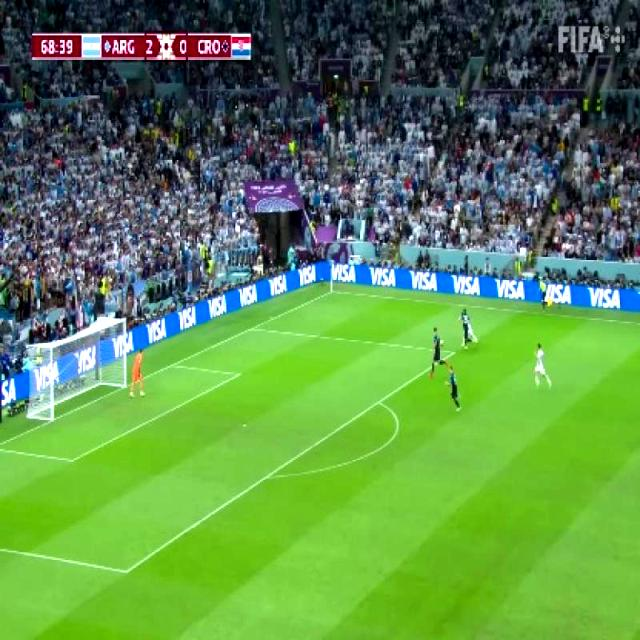bigarea_bottom_inner: (117, 560, 135, 582)
bigarea_top_inner: (446, 344, 459, 358)
bigarea_top_outter: (244, 320, 259, 335)
bottom_arc_area_intersection: (258, 465, 274, 485)
corner: (324, 284, 338, 298)
smallarea_bottom_inner: (63, 448, 82, 470)
smallarea_top_inner: (230, 364, 244, 382)
smallarea_top_outter: (165, 356, 180, 372)
top_arc_area_intersection: (371, 391, 386, 409)
